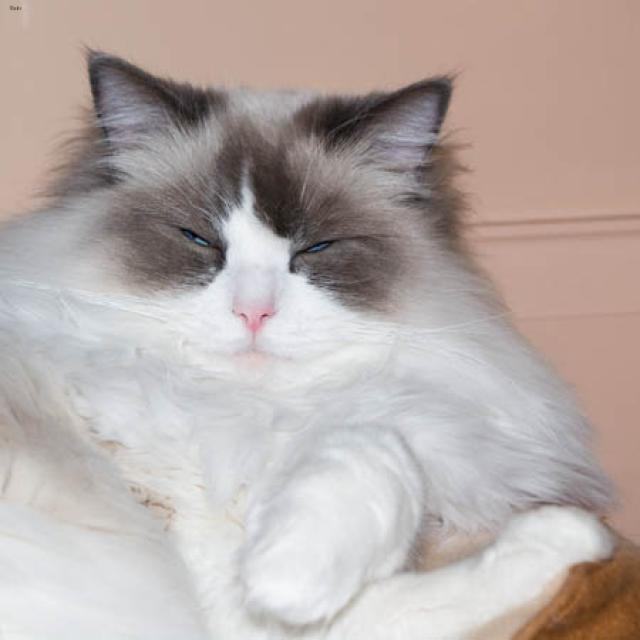Ragdoll: (87, 48, 451, 380)
